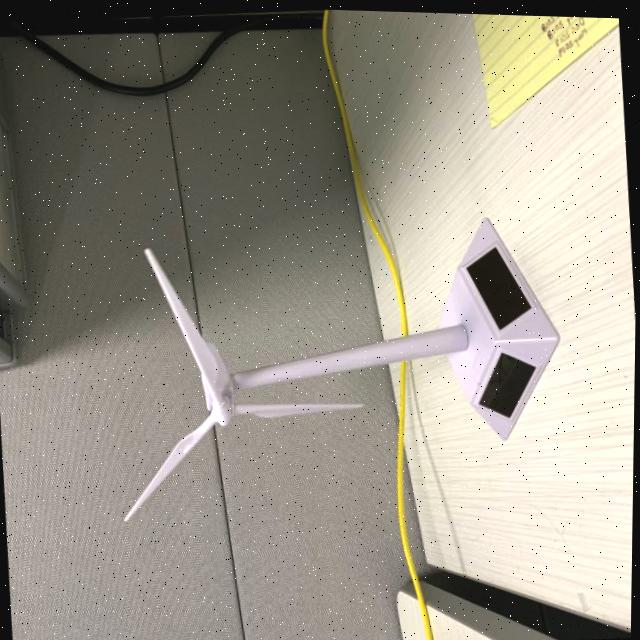solid-blade: (146, 246, 223, 401), (127, 409, 218, 519), (235, 400, 364, 414)
